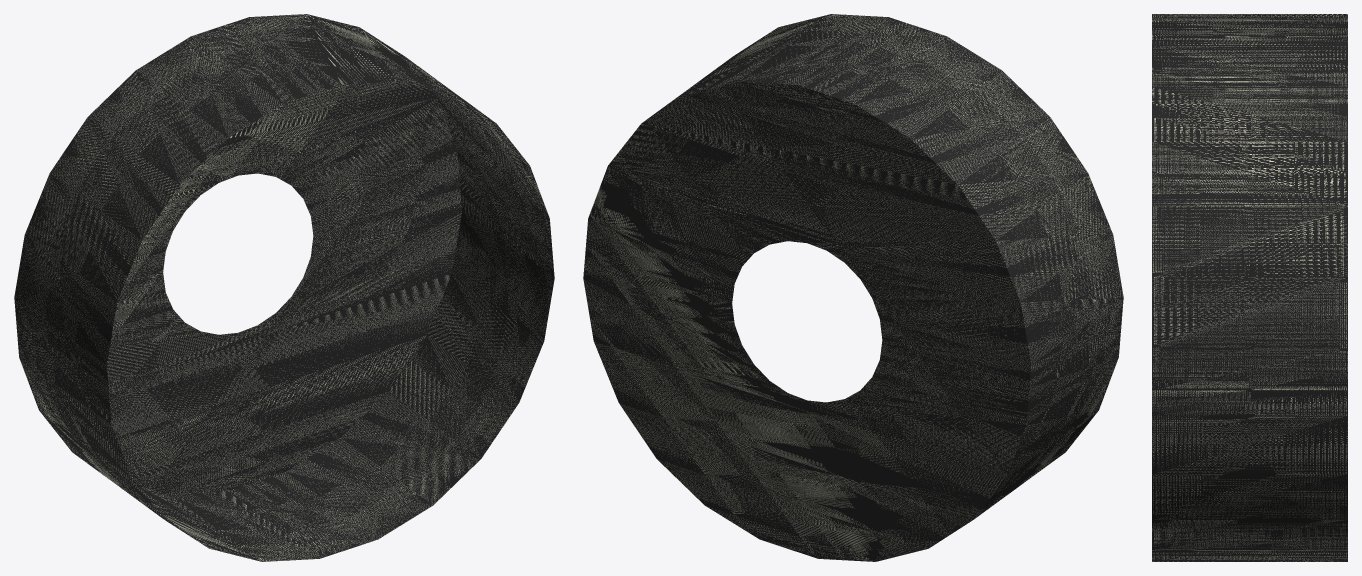
The model's file is original-128.obj.
3 renders of one model, left to right at view 1: azimuth 30°, elevation 25°; view 2: azimuth 150°, elevation 25°; view 3: azimuth 270°, elevation 25°, orthographic. The views are drawn at different scales.
Visible parts, largest first — view 1: mesh235/mesh235-geometry/material_6/component_0#mesh235-geometry; view 2: mesh235/mesh235-geometry/material_6/component_0#mesh235-geometry; view 3: mesh235/mesh235-geometry/material_6/component_0#mesh235-geometry.
Boxes of the visible parts, x1,y1,x2,y2 form: mesh235/mesh235-geometry/material_6/component_0#mesh235-geometry: (14, 14, 554, 561); mesh235/mesh235-geometry/material_6/component_0#mesh235-geometry: (583, 14, 1123, 561); mesh235/mesh235-geometry/material_6/component_0#mesh235-geometry: (1152, 14, 1347, 561).
Size of the model in its own units: 0.037 by 0.037 by 0.0132.
